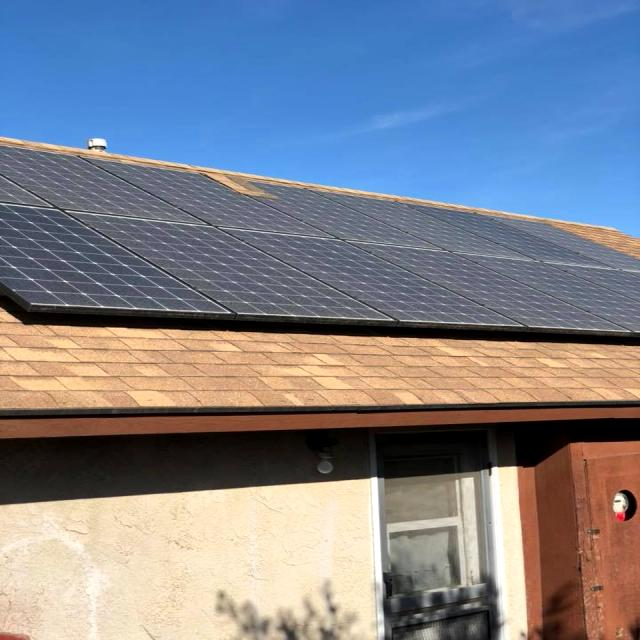dust: (18, 232, 235, 300), (284, 247, 488, 306)
